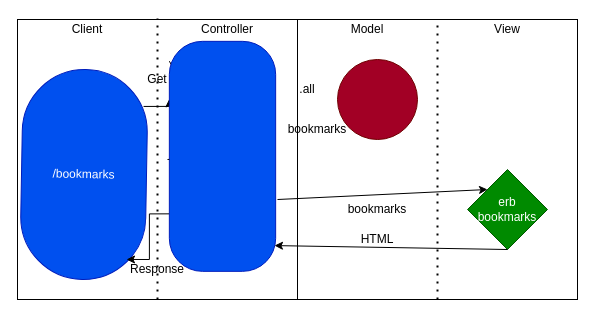
Image size: 595x318. Some labels were removed from this diagram. Here are the shapes that lost their labels. From the top down, the box of each, then its label:
(336, 58, 418, 140): bookmark
(168, 40, 276, 271): App
